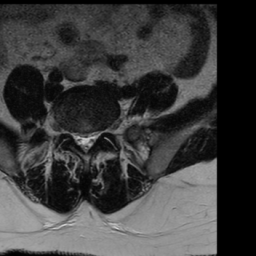CCS_normal: (81, 127, 88, 158)
LFS_severe_stenosis: (99, 124, 106, 141)
LLS_stenosis: (89, 126, 98, 148)
RFS_severe_stenosis: (65, 124, 74, 143)
RLS_normal: (73, 127, 81, 154)
